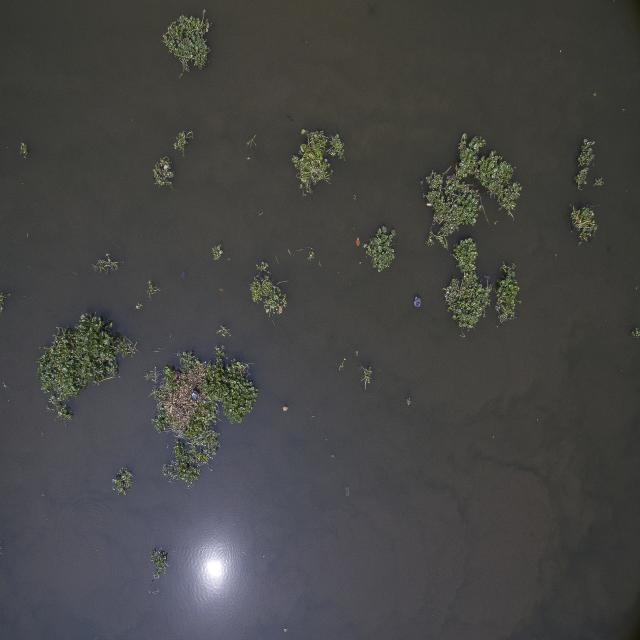plastic: (188, 386, 206, 407), (412, 292, 426, 314)
